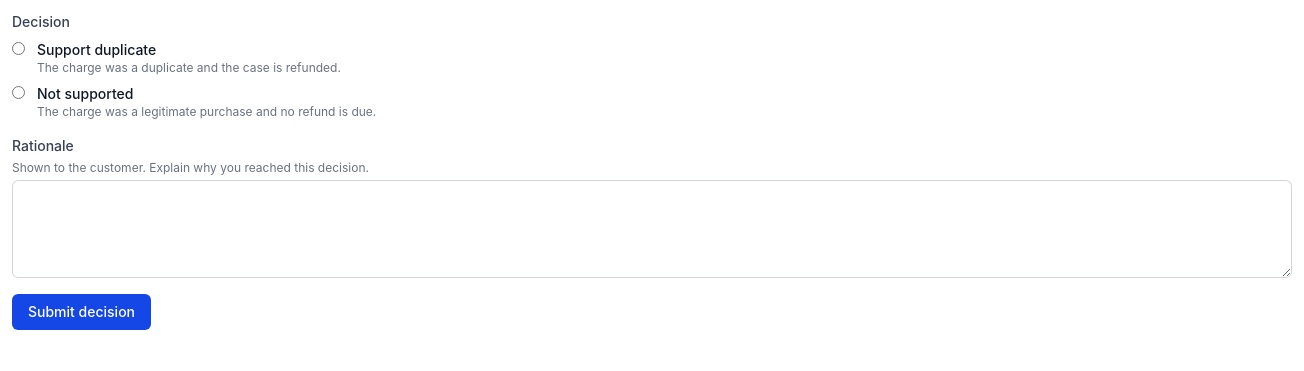
Test: AnalystDecisionForm › refuses to submit without a decision
This screenshot has width=1304, height=371.
Click the button "Submit decision". click: (82, 312)
box: [12, 294, 151, 330]
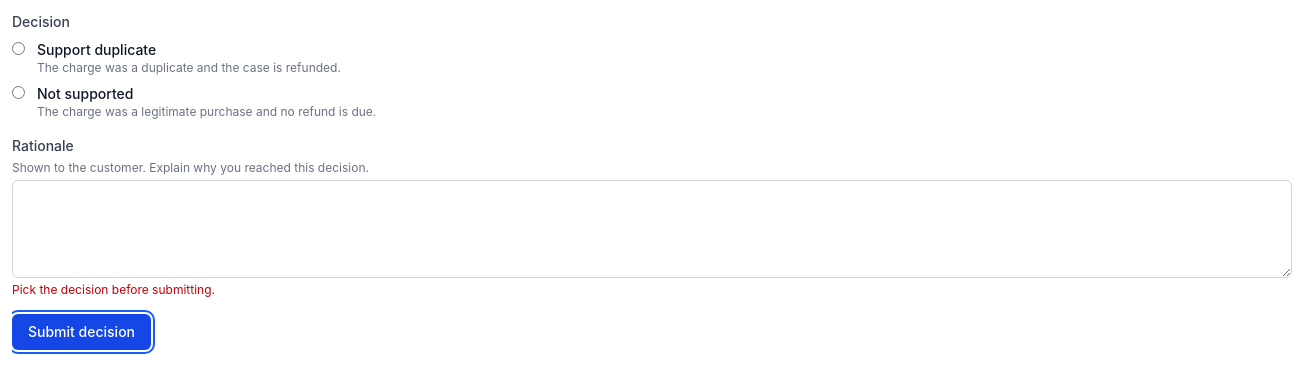
Now the message reads "Pick the decision before submitting.", box [12, 282, 215, 297]
